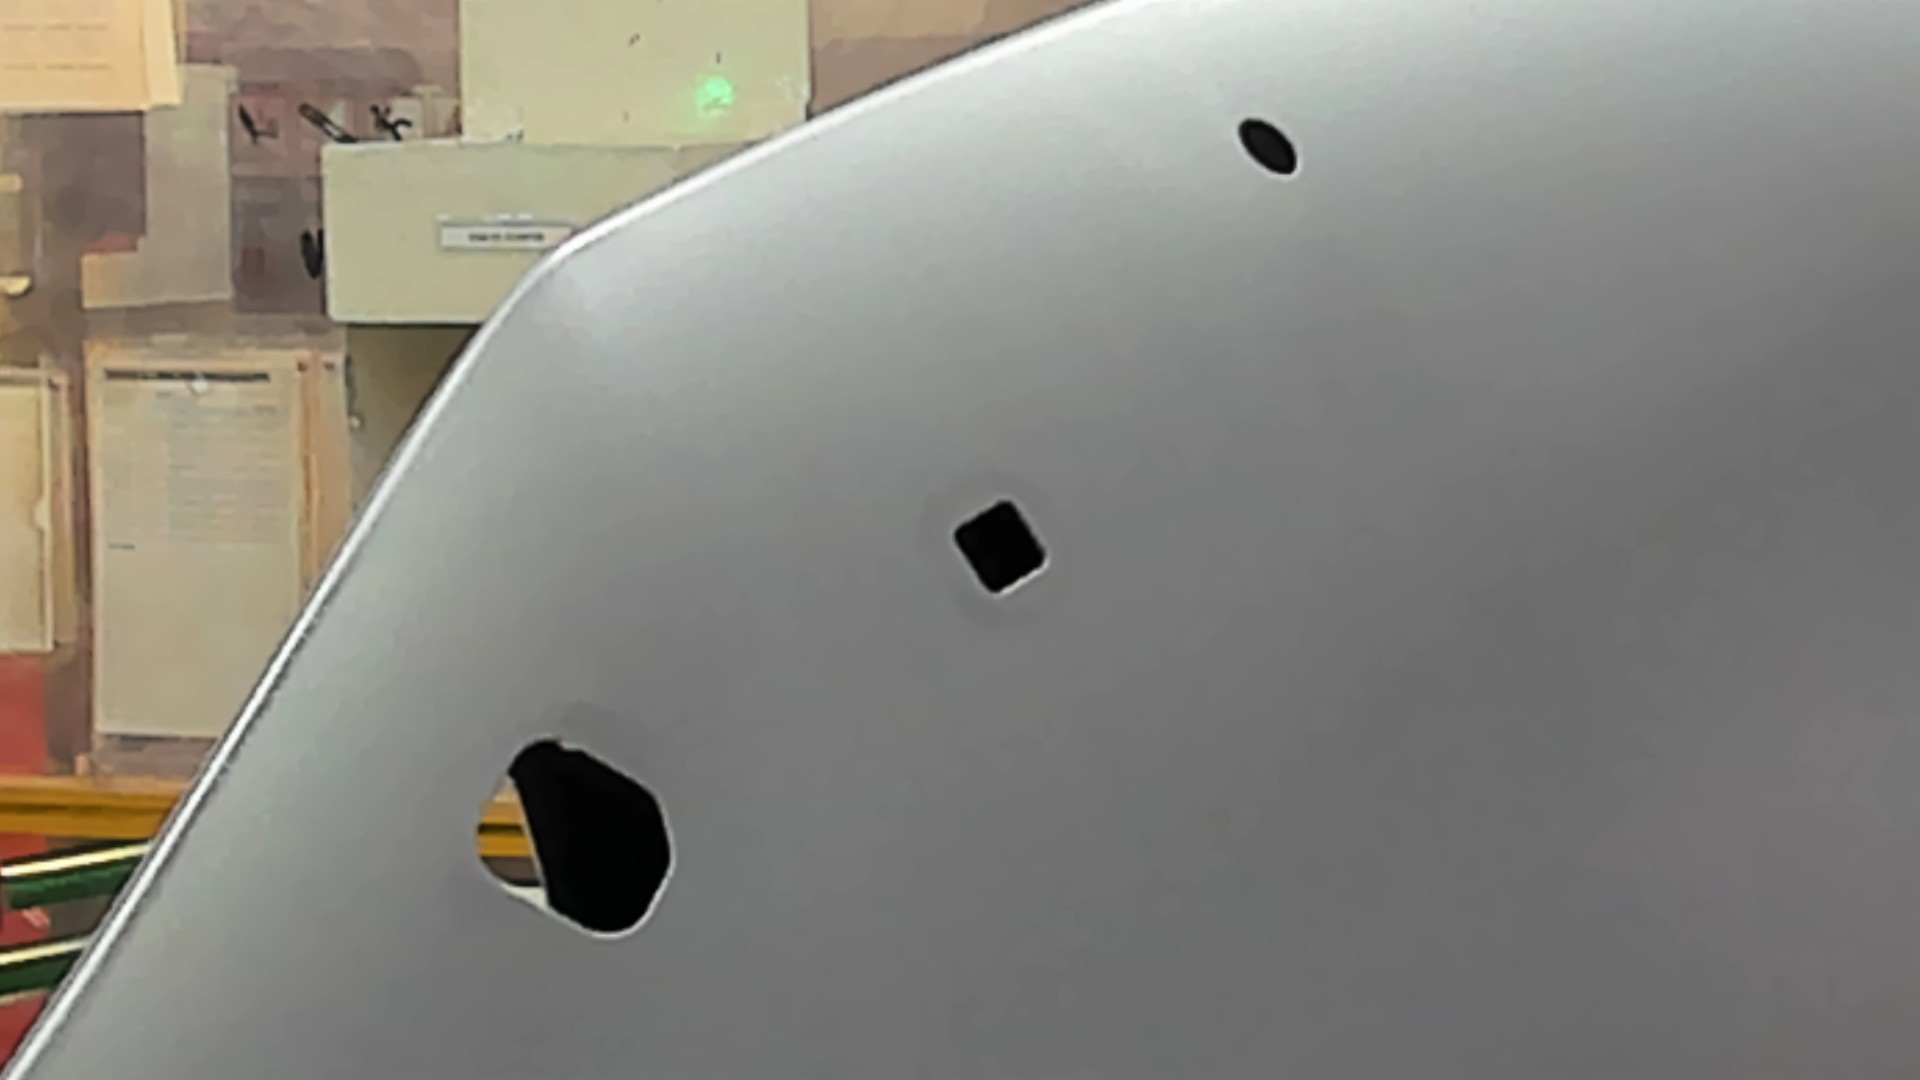chico: (1222, 100, 1313, 203)
grande: (450, 727, 695, 945)
mediano: (927, 483, 1073, 613)
